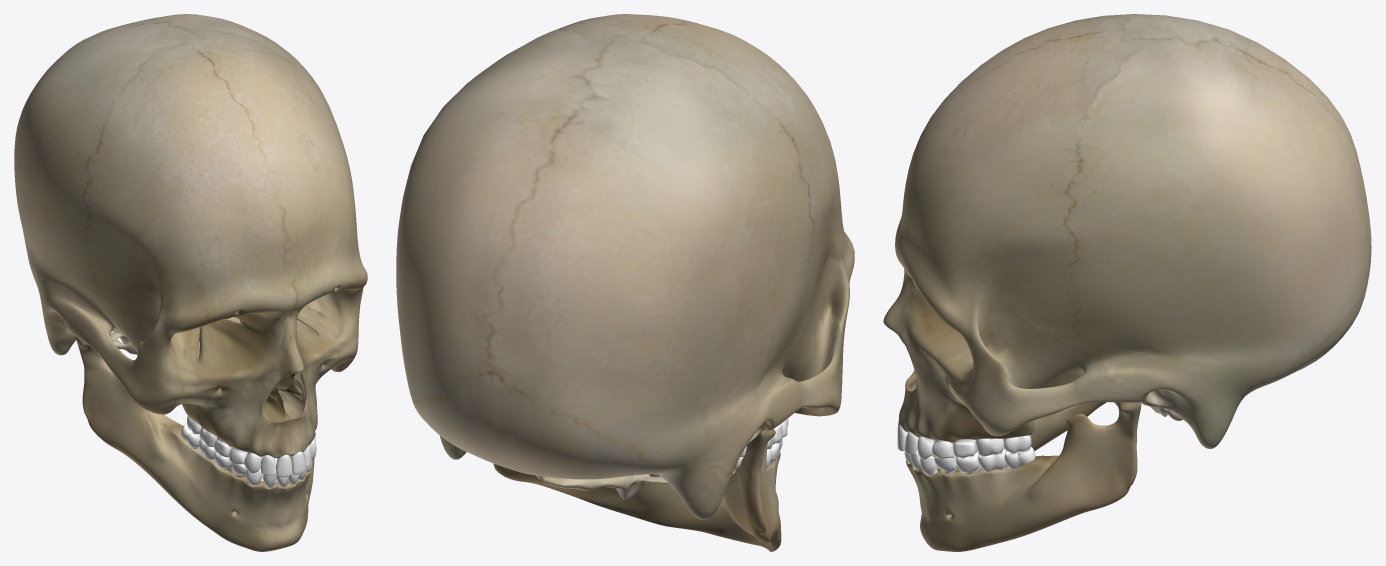
Rendered from manya-skull_compressed.glb.
3 renders of one model, left to right at view 1: azimuth 30°, elevation 25°; view 2: azimuth 150°, elevation 25°; view 3: azimuth 270°, elevation 25°, orthographic. The views are drawn at different scales.
Visible parts, largest first — view 1: Male_Skeletal_Skull_Geo_skull bones_0, Male_Skeletal_Mandible_Geo_jawbones_0, Male_Skeletal_Lower_Canine_Left_Geo_vray Male_Skeletal_mat_0, Male_Skeletal_Lower_Molar_1_Left_Geo_vray Male_Skeletal_mat_; view 2: Male_Skeletal_Skull_Geo_skull bones_0, Male_Skeletal_Mandible_Geo_jawbones_0, Male_Skeletal_Atlas_Geo_bones back_0; view 3: Male_Skeletal_Skull_Geo_skull bones_0, Male_Skeletal_Mandible_Geo_jawbones_0, Male_Skeletal_Lower_Canine_Left_Geo_vray Male_Skeletal_mat_0, Male_Skeletal_Lower_Molar_1_Left_Geo_vray Male_Skeletal_mat_.
Part boxes in pixels (<box>): Male_Skeletal_Skull_Geo_skull bones_0: <box>14,14,367,458</box>; Male_Skeletal_Mandible_Geo_jawbones_0: <box>76,336,314,551</box>; Male_Skeletal_Lower_Canine_Left_Geo_vray Male_Skeletal_mat_0: <box>214,436,316,487</box>; Male_Skeletal_Lower_Molar_1_Left_Geo_vray Male_Skeletal_mat_: <box>181,416,217,459</box>; Male_Skeletal_Skull_Geo_skull bones_0: <box>396,14,854,519</box>; Male_Skeletal_Mandible_Geo_jawbones_0: <box>493,429,781,551</box>; Male_Skeletal_Atlas_Geo_bones back_0: <box>536,473,668,499</box>; Male_Skeletal_Skull_Geo_skull bones_0: <box>883,14,1371,448</box>; Male_Skeletal_Mandible_Geo_jawbones_0: <box>906,402,1141,551</box>; Male_Skeletal_Lower_Canine_Left_Geo_vray Male_Skeletal_mat_0: <box>897,420,980,474</box>; Male_Skeletal_Lower_Molar_1_Left_Geo_vray Male_Skeletal_mat_: <box>976,435,1035,471</box>.
Bounding box in the file's own units: 13.87 × 22.65 × 19.79.
4 materials, 3 textured.
